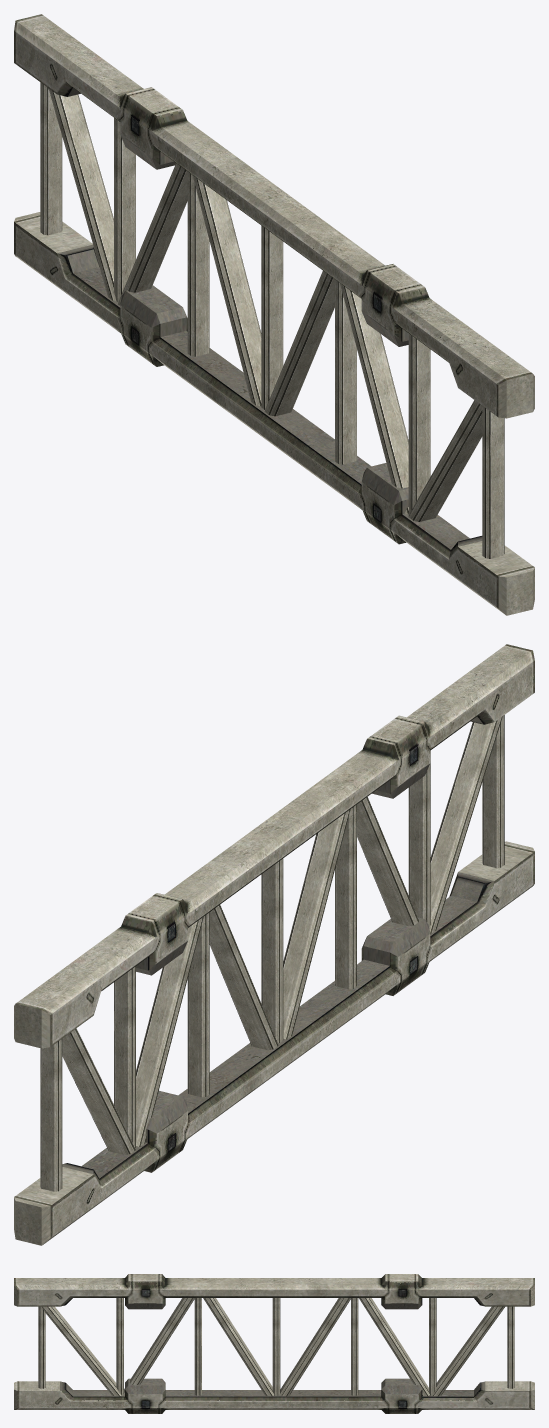
Rendered from theta_ceiling_supporter01.dae.
3 renders of one model, top to bottom at view 1: azimuth 30°, elevation 25°; view 2: azimuth 150°, elevation 25°; view 3: azimuth 270°, elevation 25°, orthographic. The views are drawn at different scales.
Parts seen in each view (by area): view 1: polySurface40; view 2: polySurface40; view 3: polySurface40.
Part boxes in pixels (x1=…): polySurface40: x1=14, y1=14, x2=534, y2=615; polySurface40: x1=14, y1=644, x2=534, y2=1245; polySurface40: x1=14, y1=1274, x2=534, y2=1413.
Bounding box in the file's own units: 0.1721 × 1.13 × 4.
